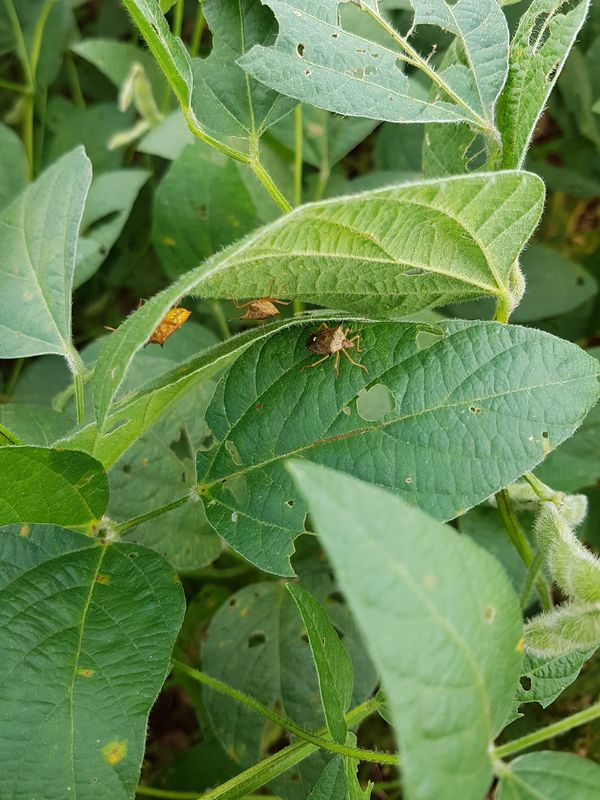Euschistus_heros_adulto: (298, 316, 374, 379), (226, 275, 297, 333), (139, 303, 195, 353)
